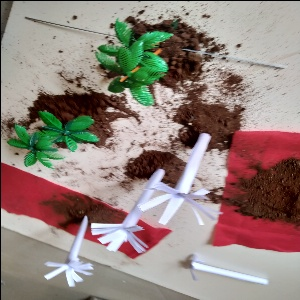plant: (100, 22, 182, 104), (10, 110, 102, 170)
weed: (153, 120, 222, 226), (96, 165, 157, 268), (181, 241, 275, 293), (46, 214, 88, 293)
